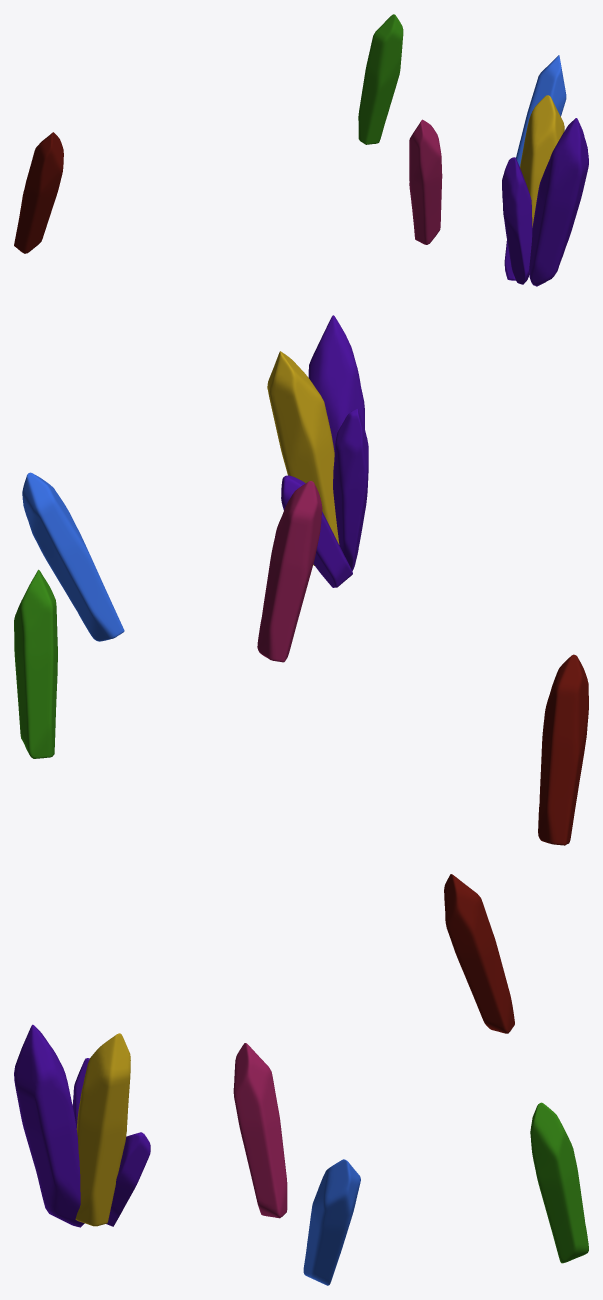
Rendered from crystals.fbx.
3 views of the same model, one above another, from view 1: azimuth 30°, elevation 25°; view 2: azimuth 150°, elevation 25°; view 3: azimuth 270°, elevation 25° (orthographic). The views are drawn at different scales.
Visible parts, largest first — view 1: crystals003, crystals039, crystals015, crystals011, crystals002, crystals001, crystals046; view 2: crystals015, crystals039, crystals011, crystals046, crystals001, crystals002, crystals003, crystals000; view 3: crystals003, crystals001, crystals011, crystals015, crystals039, crystals046, crystals000.
Part boxes in pixels (box(x1,y1,x2,y2)): crystals003: box(529, 118, 588, 286); crystals039: box(358, 14, 403, 144); crystals015: box(14, 132, 63, 253); crystals011: box(409, 119, 442, 244); crystals002: box(502, 157, 532, 284); crystals001: box(520, 95, 564, 227); crystals046: box(516, 55, 566, 166); crystals015: box(538, 654, 588, 845); crystals039: box(14, 569, 57, 758); crystals011: box(257, 481, 322, 662); crystals046: box(22, 472, 124, 641); crystals001: box(267, 351, 339, 565); crystals002: box(333, 408, 368, 570); crystals003: box(308, 315, 364, 451); crystals000: box(281, 475, 352, 587); crystals003: box(14, 1024, 84, 1227); crystals001: box(75, 1033, 130, 1226); crystals011: box(233, 1043, 287, 1218); crystals015: box(444, 874, 514, 1033); crystals039: box(530, 1102, 588, 1263); crystals046: box(303, 1159, 360, 1285); crystals000: box(106, 1132, 150, 1226).
Size of the model in its own units: 612 by 224 by 508.
